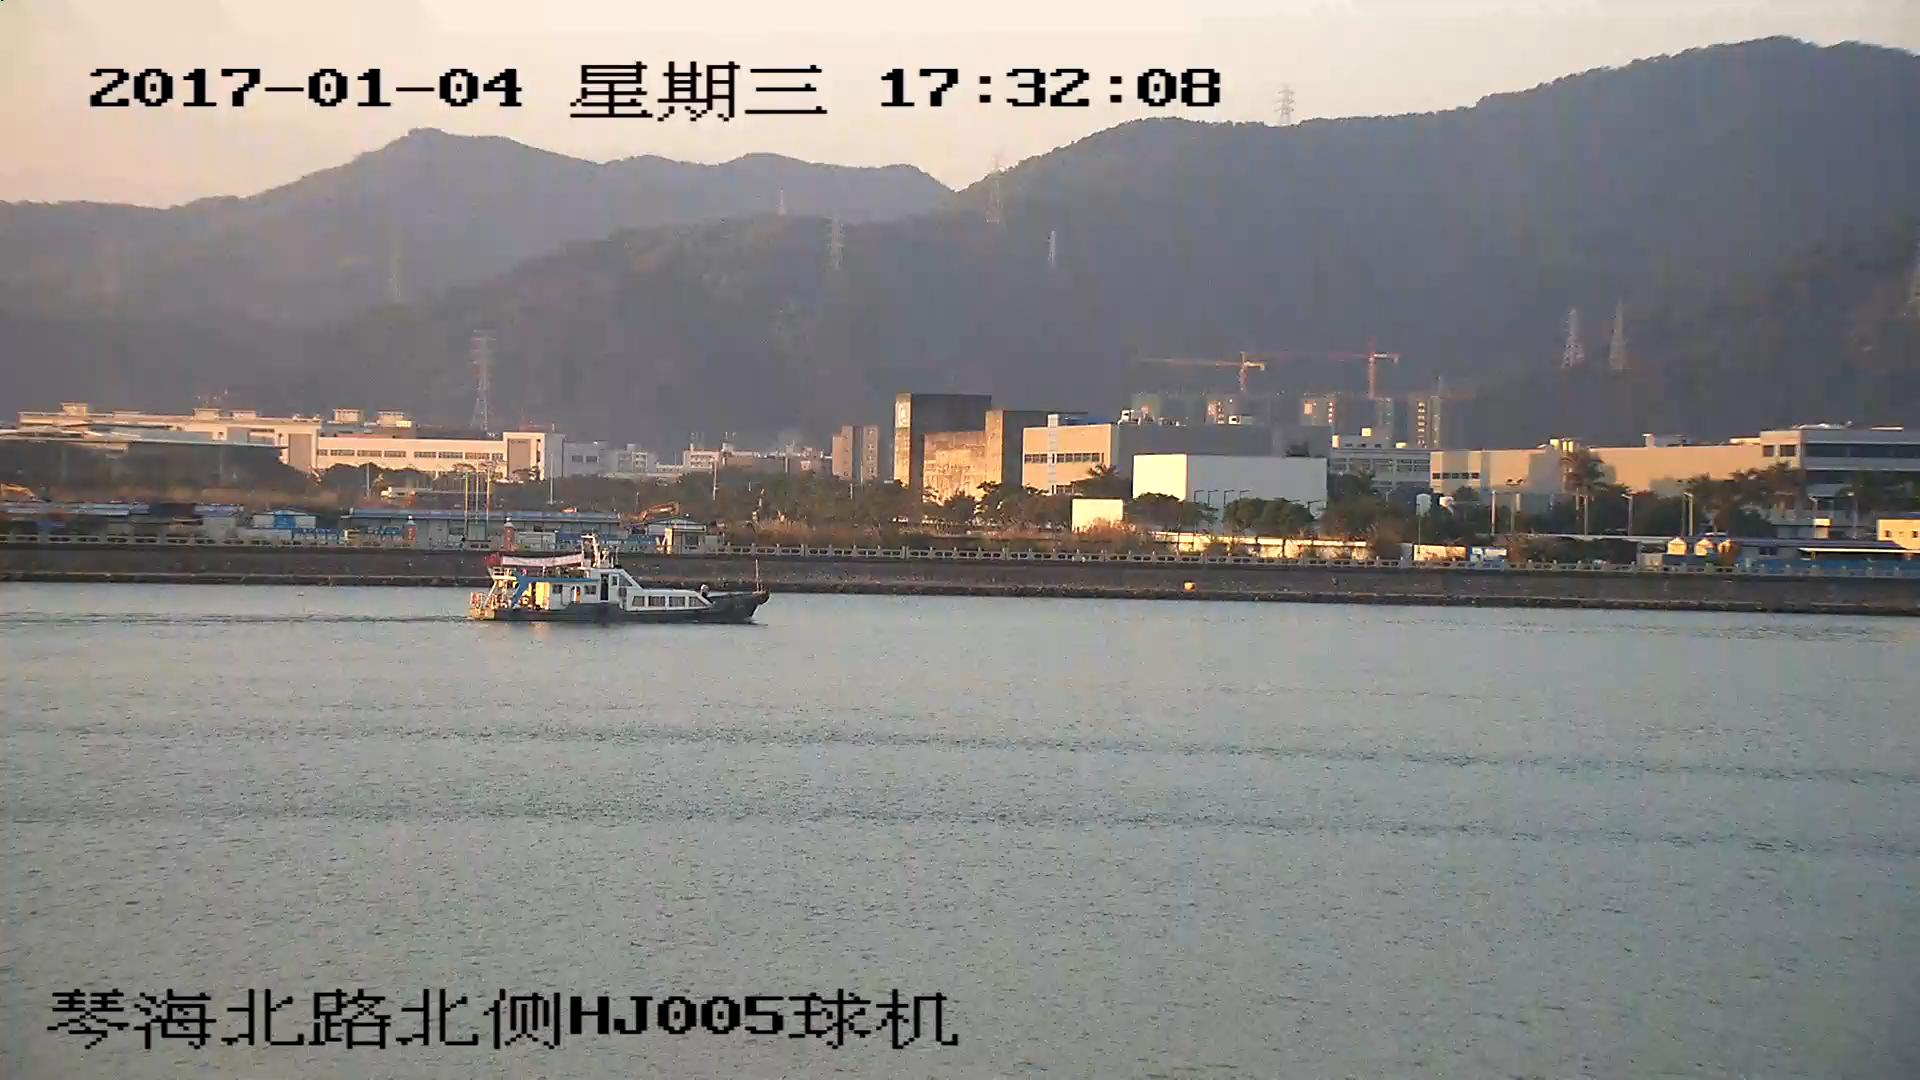fishing boat: (467, 540, 767, 623)
